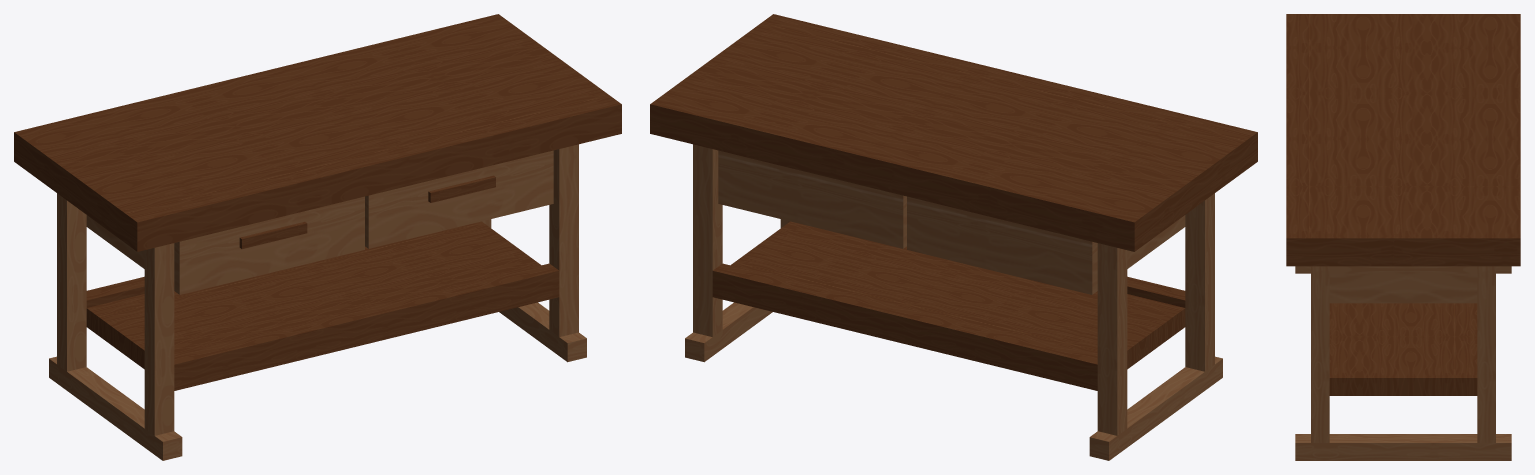
File: woodwork_table.fbx
3 views of the same model, side by side, from view 1: azimuth 30°, elevation 25°; view 2: azimuth 150°, elevation 25°; view 3: azimuth 270°, elevation 25° (orthographic). The views are drawn at different scales.
Visible parts, largest first — view 1: woodwork_table; view 2: woodwork_table; view 3: woodwork_table.
Boxes of the visible parts, x1=… form: woodwork_table: x1=14, y1=14, x2=621, y2=460; woodwork_table: x1=650, y1=14, x2=1257, y2=460; woodwork_table: x1=1286, y1=14, x2=1520, y2=460.
Bounding box in the file's own units: 13.78 × 6.78 × 6.08.
